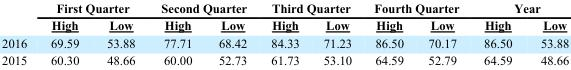table: (1, 1, 568, 67)
table column: (147, 1, 204, 67), (92, 1, 147, 67), (415, 1, 470, 67), (470, 1, 525, 67), (38, 1, 92, 67), (204, 1, 258, 67), (362, 1, 415, 67), (258, 1, 310, 67), (310, 1, 362, 67), (525, 1, 568, 67), (1, 1, 38, 67)
table column header: (1, 1, 568, 33)
table row: (1, 33, 568, 51), (1, 16, 568, 33), (1, 51, 568, 67), (1, 1, 568, 16)
table spanning cell: (147, 1, 258, 16), (38, 1, 147, 16), (362, 1, 470, 16), (258, 1, 362, 16), (470, 1, 568, 16)
